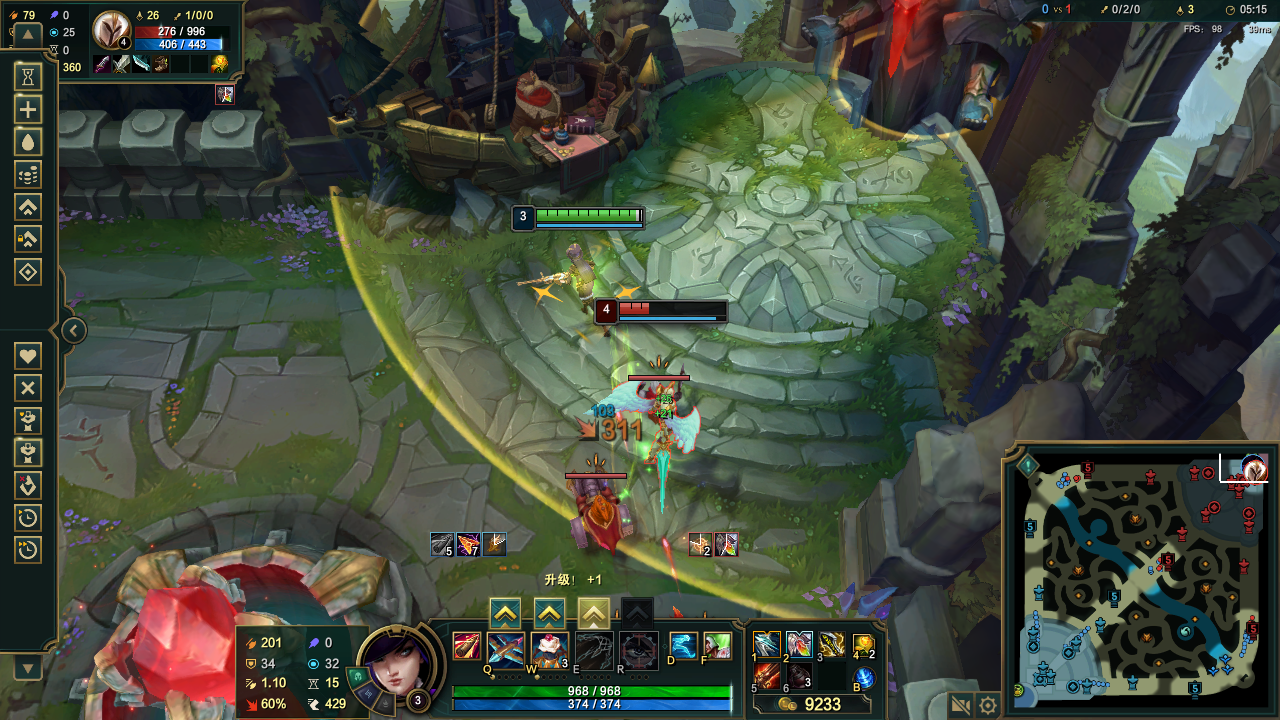DFDSJ: (131, 537, 313, 616)
DFYX: (619, 302, 729, 316)
